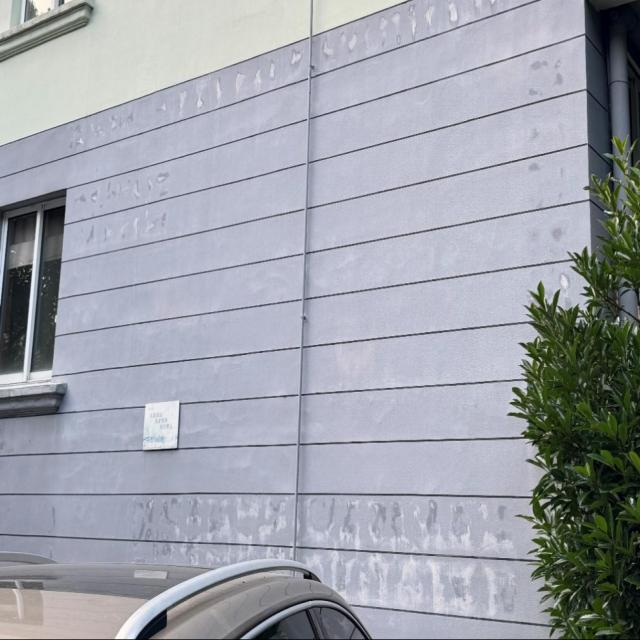efflorescence: (63, 3, 518, 156), (129, 492, 517, 624), (73, 157, 176, 252)
